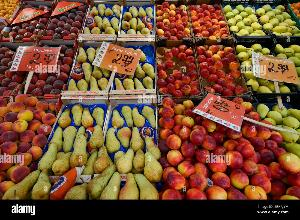peach: (158, 95, 272, 204), (1, 39, 77, 96), (0, 96, 62, 164), (152, 38, 200, 94), (204, 44, 241, 98), (8, 2, 54, 38), (43, 3, 87, 39), (155, 2, 193, 38), (192, 1, 228, 39)
pear: (54, 94, 158, 198), (74, 37, 150, 95), (236, 40, 300, 94), (224, 1, 300, 38), (86, 0, 120, 38), (122, 1, 158, 36)
